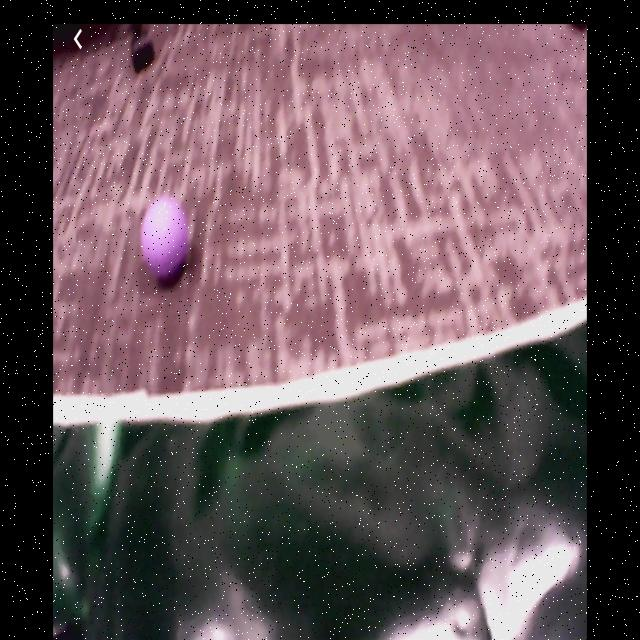ball: (139, 194, 190, 282)
